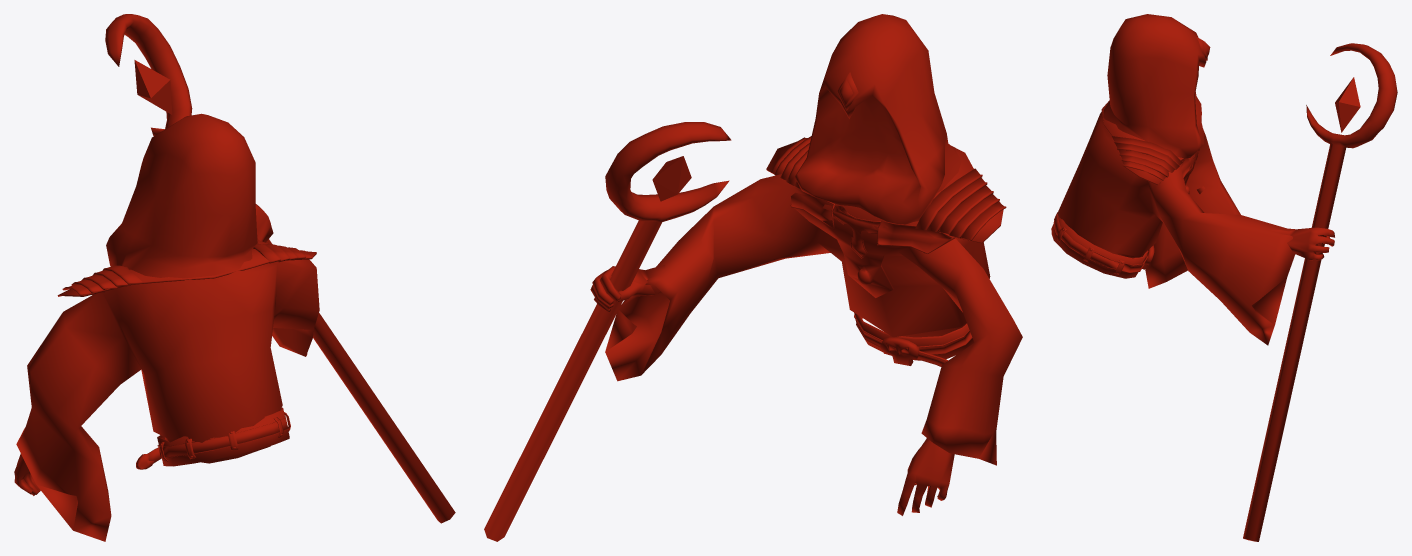
Rendered from top_000040.obj.
The picture shows the model from 3 angles, left to right: view 1: azimuth 30°, elevation 25°; view 2: azimuth 150°, elevation 25°; view 3: azimuth 270°, elevation 25°; orthographic projection. The views are drawn at different scales.
Parts seen in each view (by area): view 1: LowPoly_Warlock.000_Plane.005; view 2: LowPoly_Warlock.000_Plane.005; view 3: LowPoly_Warlock.000_Plane.005.
Boxes of the visible parts, x1=… form: LowPoly_Warlock.000_Plane.005: x1=14, y1=14, x2=455, y2=541; LowPoly_Warlock.000_Plane.005: x1=484, y1=14, x2=1022, y2=541; LowPoly_Warlock.000_Plane.005: x1=1051, y1=14, x2=1397, y2=541.
Size of the model in its own units: 1.57 by 1.69 by 1.29.
